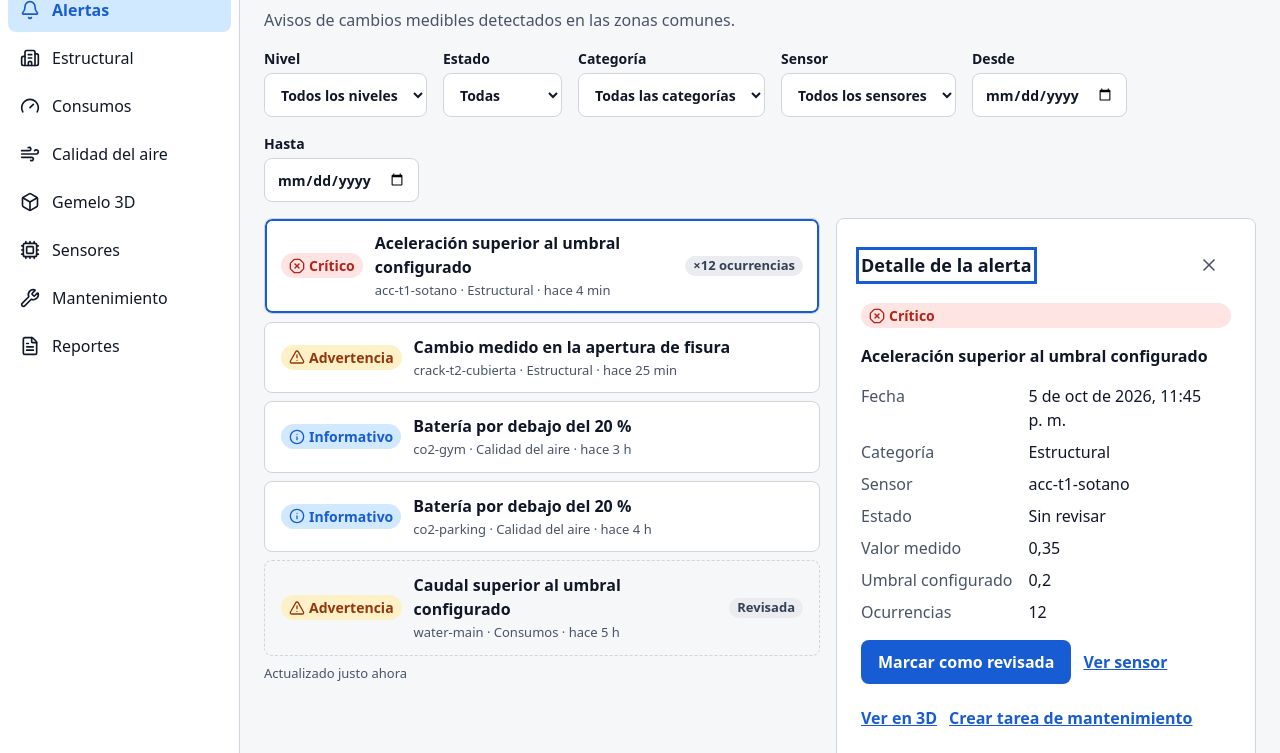
Test: detalle de alerta › si el servidor falla revierte y lo dice
(page scrolled)
Expected: the text "Aceleración superior al umbral configurado" below "Detalle de la alerta" is shown, [861, 345, 1208, 367]
Click the button "Marcar como revisada": (966, 662) [861, 640, 1071, 684]
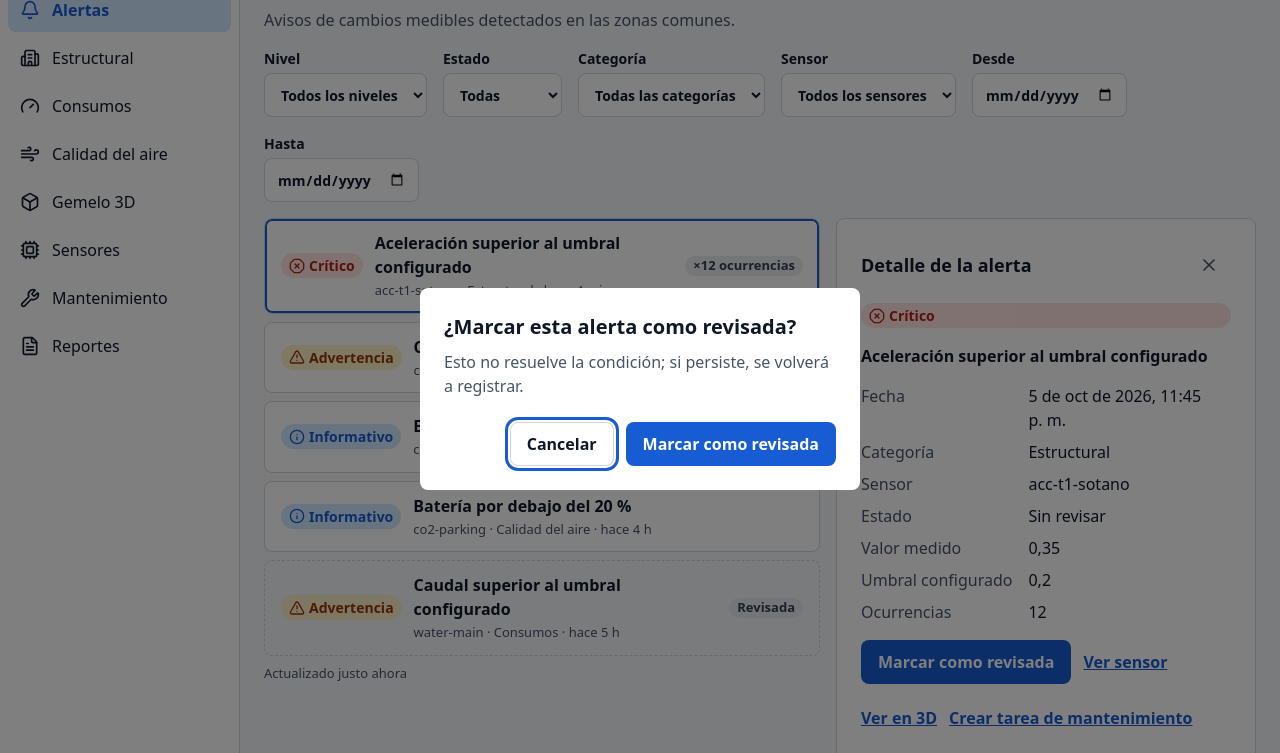
Click the button "Marcar como revisada": (731, 444) [626, 422, 836, 466]
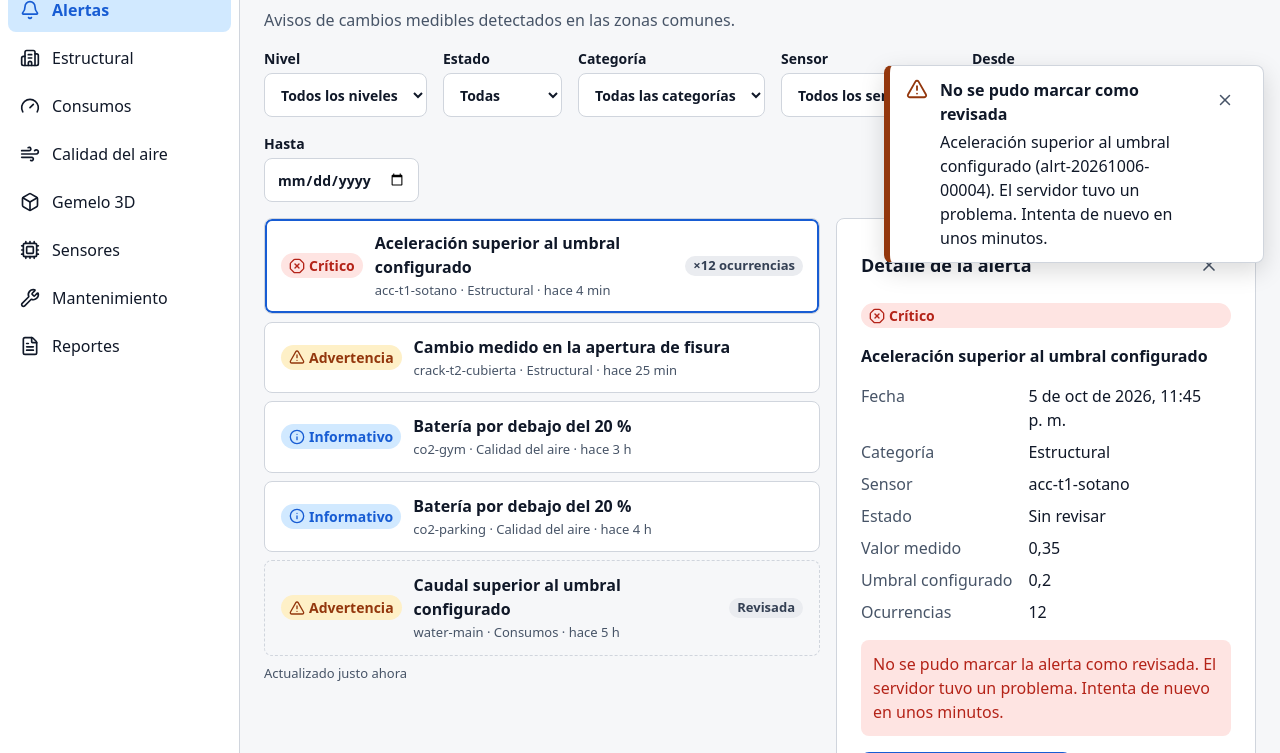
Expected: the text "Sin revisar" is shown, [1028, 505, 1106, 527]
Result: the 2nd message shows "No se pudo marcar la alerta como revisada." at [873, 653, 1216, 723]
